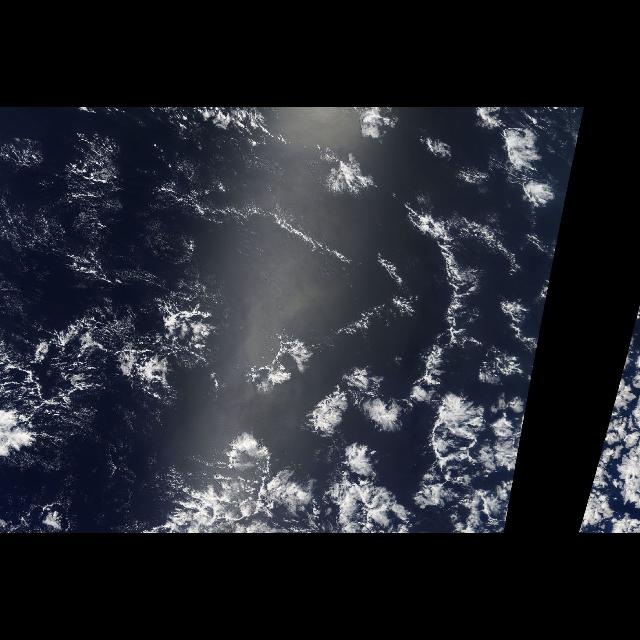Fish: (0, 283, 196, 457)
Flower: (241, 112, 564, 528), (578, 351, 640, 527)
Gravel: (3, 114, 284, 304), (7, 312, 109, 422)
Sugar: (307, 175, 531, 478)
